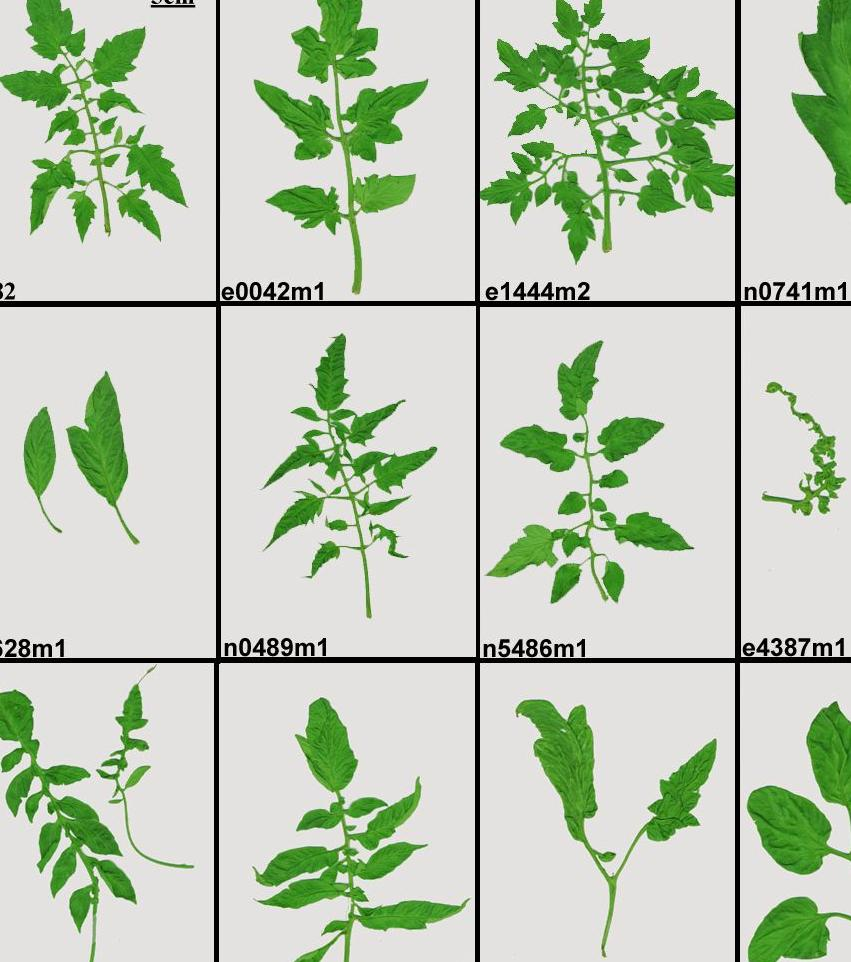Tomato leaf: (769, 0, 851, 209), (292, 0, 375, 86), (249, 78, 332, 164), (341, 71, 428, 152), (338, 174, 432, 226), (306, 323, 361, 411), (555, 324, 598, 429), (585, 415, 674, 464)
